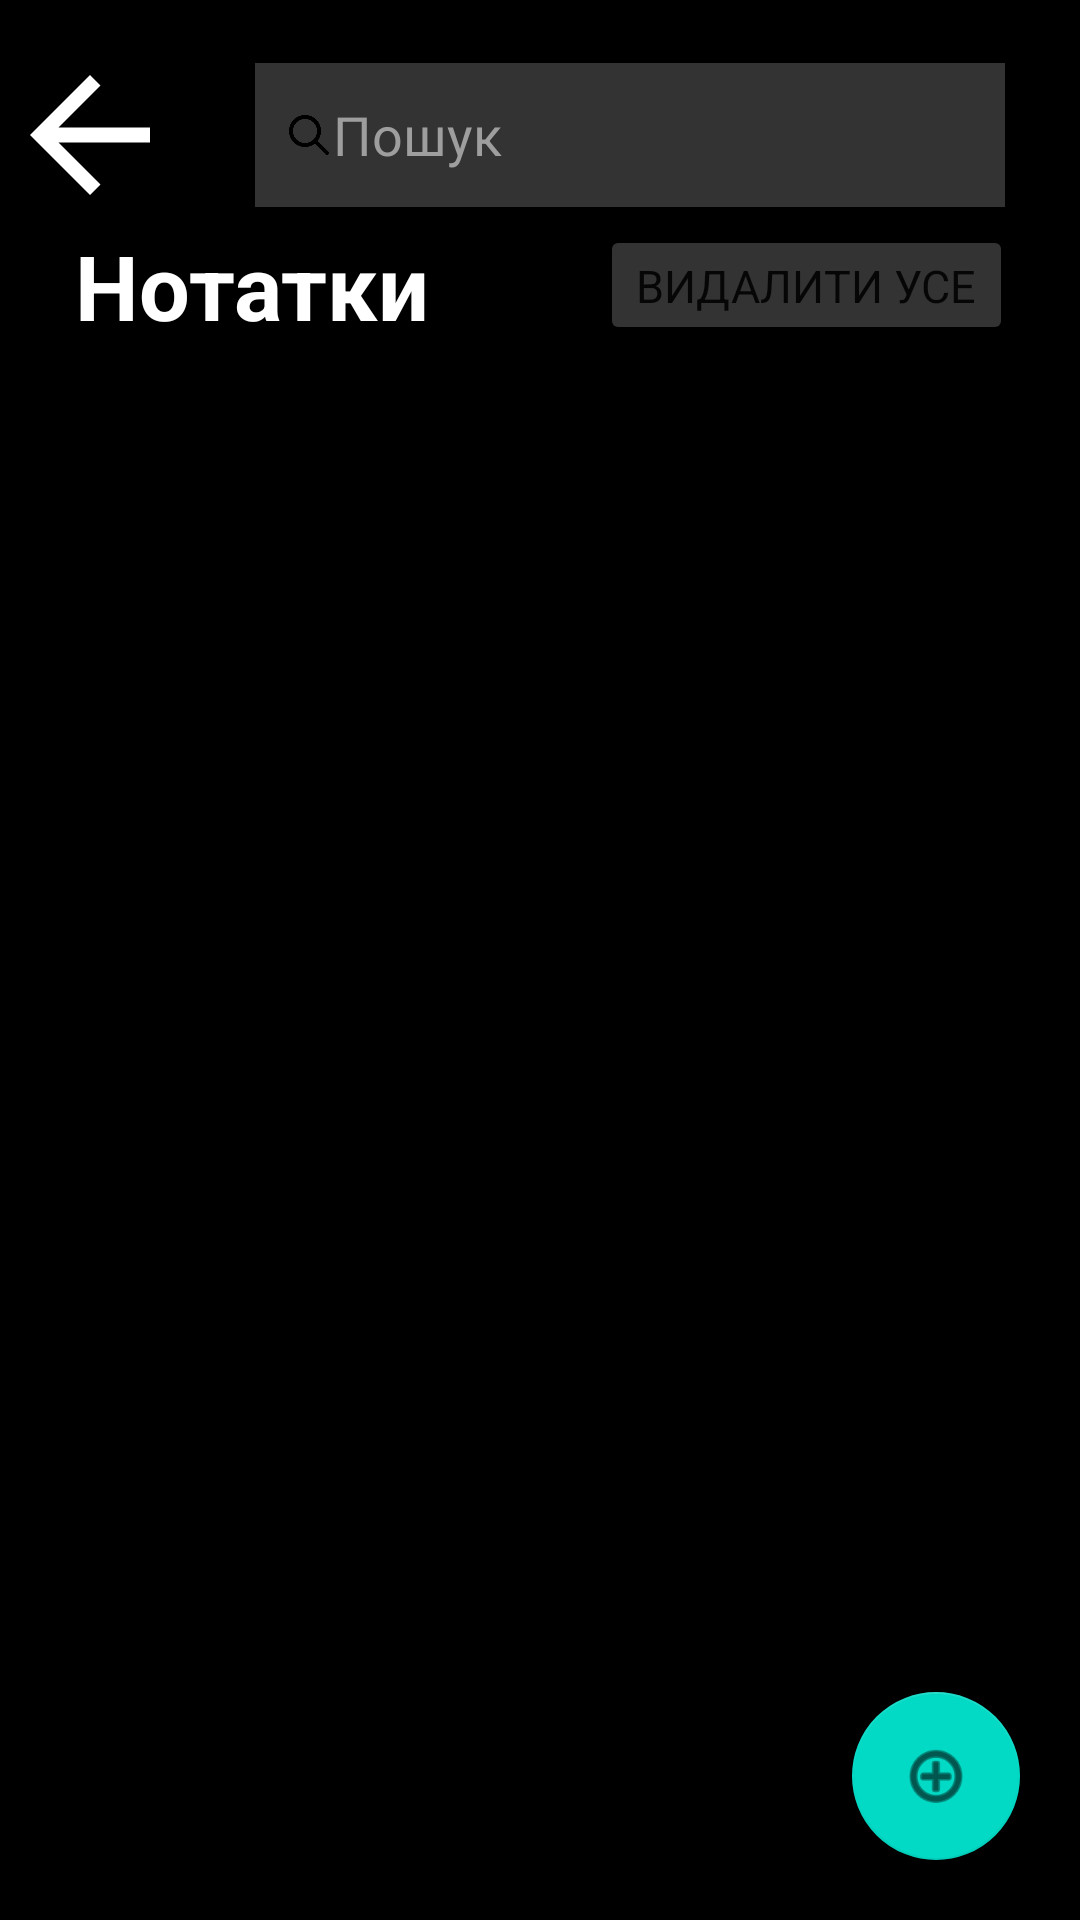

Point at icon controls on the screen. Image size 1080px×1920px, points as point (x, y).
add new note button: point (936, 1776)
